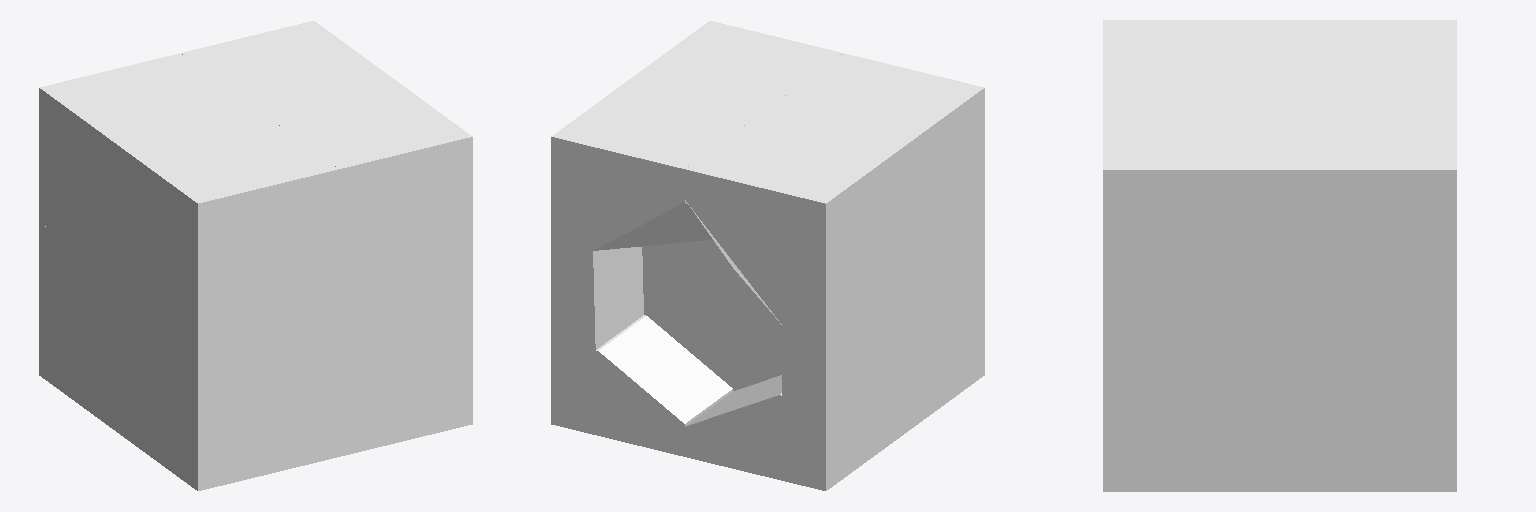
URDF robot description (Hexagon_cube_bottle_preprocessed_convex):
<?xml version="1.0" ?>
<robot name="Hexagon_cube_bottle_preprocessed_convex">
  <link name="baseLink">
    <contact>
    	<friction_anchor/>
    	   <lateral_friction value="1.0"/>
    </contact>
    <inertial>
      <origin rpy="0 0 0" xyz="0 0 0"/>
       <!-- mass controls penetration -->
       <mass value=".5"/>
       <inertia ixx="1e-4" ixy="0" ixz="0" iyy="1e-4" iyz="0" izz="1e-4"/>
    </inertial>
    <visual>
      <origin rpy="0 0 0" xyz="0 0 0"/>
      <geometry>
        <mesh filename="Hexagon_cube_bottle_preprocessed_convex.obj"/>
      </geometry>
       <material name="white">
        <color rgba="1 1 1 1"/>
      </material>
    </visual>
    <collision>
      <origin rpy="0 0 0" xyz="0 0 0"/>
      <geometry>
        <mesh filename="Hexagon_cube_bottle_preprocessed_convex.obj"/>
      </geometry>
    </collision>
  </link>
</robot>

--- What the picture shows (computed from the rendered views, not written in the file) ---
3 views of the same robot in one strip: view 1: azimuth 30°, elevation 25°; view 2: azimuth 150°, elevation 25°; view 3: azimuth 270°, elevation 25° (orthographic).
Robot: Hexagon_cube_bottle_preprocessed_convex — 1 links, 0 joints (none); root link baseLink; default pose: all joints at 0.
Visible links, largest first — view 1: baseLink; view 2: baseLink; view 3: baseLink.
Boxes of the visible links, x1,y1,x2,y2 form: baseLink: [39, 21, 472, 490]; baseLink: [551, 21, 984, 490]; baseLink: [1103, 20, 1456, 491].
Bounding box of the posed robot: 0.0808 × 0.0808 × 0.0808 m (x, y, z).
Meshes: 1 distinct files referenced, 1 mesh visuals loaded (1 OBJ).